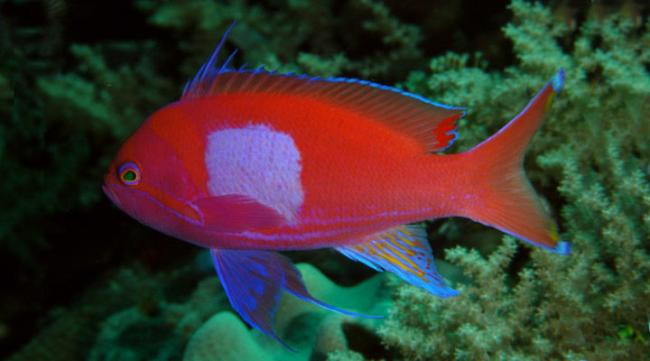fish: (102, 20, 572, 353)
